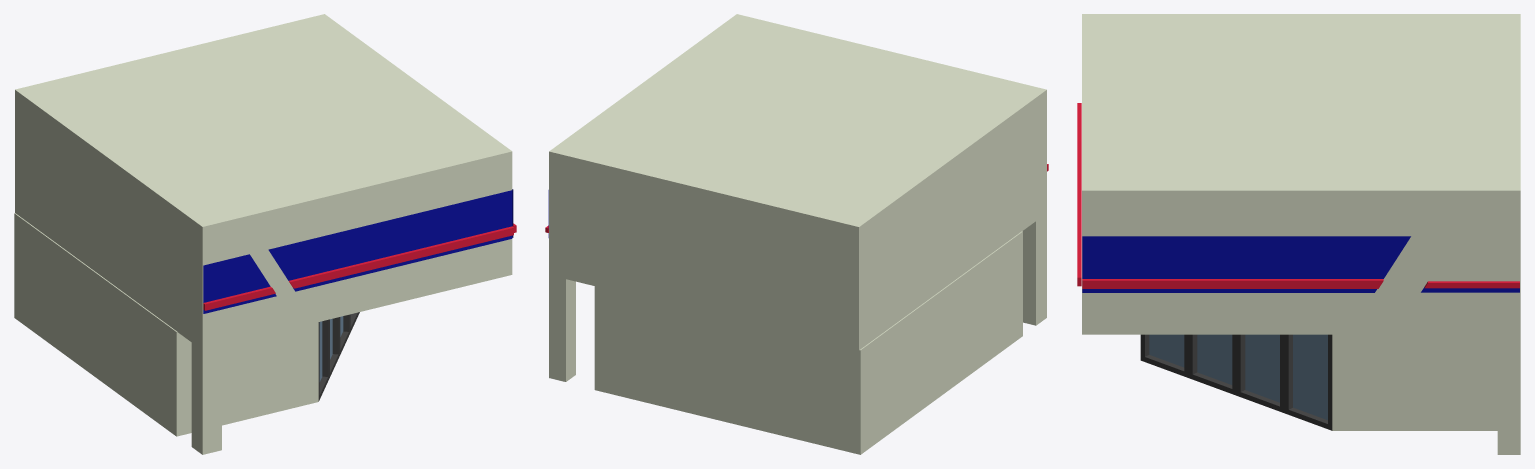
File: benavides.fbx
The picture shows the model from 3 angles, left to right: view 1: azimuth 30°, elevation 25°; view 2: azimuth 150°, elevation 25°; view 3: azimuth 270°, elevation 25°; orthographic projection. The views are drawn at different scales.
Visible parts, largest first — view 1: Cube.001, Cube, Plane.001, Plane; view 2: Cube.001, Cube; view 3: Cube.001, Cube, Plane.002, Plane.003, Plane.001.
Part boxes in pixels (bbox=[...]): Cube.001: bbox=[15, 14, 512, 454]; Cube: bbox=[14, 213, 359, 436]; Plane.001: bbox=[268, 190, 513, 291]; Plane: bbox=[203, 254, 276, 313]; Cube.001: bbox=[549, 14, 1046, 381]; Cube: bbox=[594, 231, 1022, 454]; Cube.001: bbox=[1082, 14, 1520, 454]; Cube: bbox=[1140, 334, 1497, 430]; Plane.002: bbox=[1082, 236, 1410, 292]; Plane.003: bbox=[1421, 281, 1519, 292]; Plane.001: bbox=[1077, 150, 1081, 286].
Bounding box in the file's own units: 4984 × 3447 × 5199.
